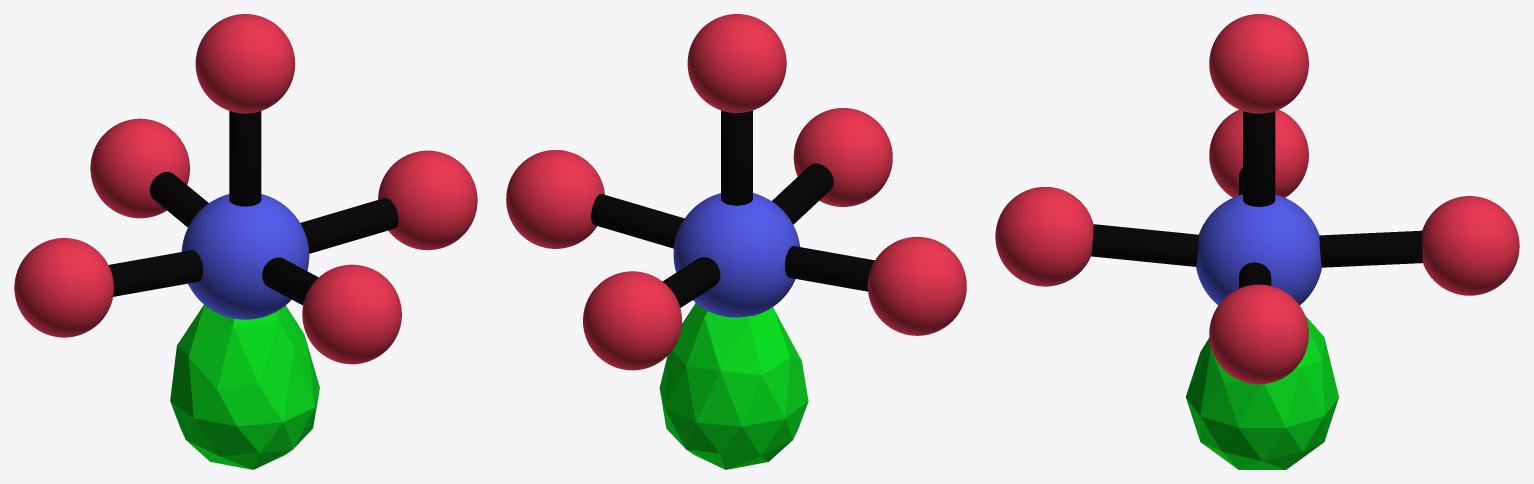
File: chem stru_octahedral_square pyramidal_1lp.glb
The picture shows the model from 3 angles, left to right: view 1: azimuth 30°, elevation 25°; view 2: azimuth 150°, elevation 25°; view 3: azimuth 270°, elevation 25°; orthographic projection.
Visible parts, largest first — view 1: Icosphere.002, Sphere, Sphere.006, Sphere.004, Sphere.001, Sphere.003, Sphere.005, Cylinder.003, Cylinder.004, Cylinder.002, Cylinder, Cylinder.001; view 2: Icosphere.002, Sphere, Sphere.001, Sphere.004, Sphere.005, Sphere.003, Sphere.006, Cylinder.004, Cylinder.003, Cylinder.002, Cylinder.001, Cylinder; view 3: Icosphere.002, Sphere, Sphere.003, Sphere.001, Sphere.005, Sphere.006, Sphere.004, Cylinder.001, Cylinder, Cylinder.004, Cylinder.003.
Part boxes in pixels (bbox=[...]): Icosphere.002: bbox=[170, 305, 319, 469]; Sphere: bbox=[181, 194, 309, 319]; Sphere.006: bbox=[302, 264, 401, 364]; Sphere.004: bbox=[14, 238, 113, 337]; Sphere.001: bbox=[195, 14, 295, 113]; Sphere.003: bbox=[378, 150, 477, 250]; Sphere.005: bbox=[90, 118, 189, 218]; Cylinder.003: bbox=[300, 198, 398, 253]; Cylinder.004: bbox=[229, 111, 261, 206]; Cylinder.002: bbox=[108, 250, 202, 296]; Cylinder: bbox=[149, 172, 208, 227]; Cylinder.001: bbox=[262, 257, 318, 305]; Icosphere.002: bbox=[659, 303, 808, 469]; Sphere: bbox=[673, 193, 799, 317]; Sphere.001: bbox=[687, 14, 786, 112]; Sphere.004: bbox=[867, 236, 966, 335]; Sphere.005: bbox=[583, 271, 681, 370]; Sphere.003: bbox=[506, 150, 604, 248]; Sphere.006: bbox=[793, 108, 892, 206]; Cylinder.004: bbox=[721, 110, 752, 205]; Cylinder.003: bbox=[591, 194, 684, 248]; Cylinder.002: bbox=[785, 246, 874, 291]; Cylinder.001: bbox=[772, 163, 833, 224]; Cylinder: bbox=[663, 257, 720, 307]; Icosphere.002: bbox=[1186, 316, 1338, 469]; Sphere: bbox=[1196, 194, 1321, 305]; Sphere.003: bbox=[1209, 284, 1308, 384]; Sphere.001: bbox=[1209, 14, 1308, 113]; Sphere.005: bbox=[1422, 196, 1519, 295]; Sphere.006: bbox=[995, 187, 1093, 286]; Sphere.004: bbox=[1209, 109, 1308, 197]; Cylinder.001: bbox=[1091, 224, 1198, 266]; Cylinder: bbox=[1319, 230, 1422, 267]; Cylinder.004: bbox=[1243, 111, 1275, 206]; Cylinder.003: bbox=[1239, 262, 1271, 288].
Size of the model in its own units: 3.74 by 3.55 by 3.77.
